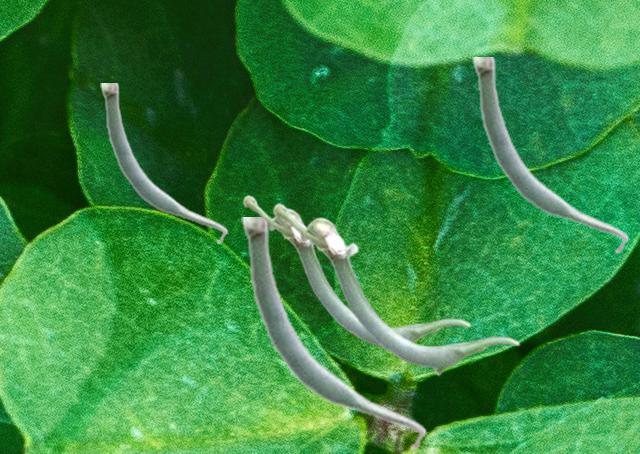french_bean: (241, 217, 426, 451), (272, 202, 519, 375), (242, 194, 470, 350), (472, 57, 628, 254), (100, 83, 227, 244)
